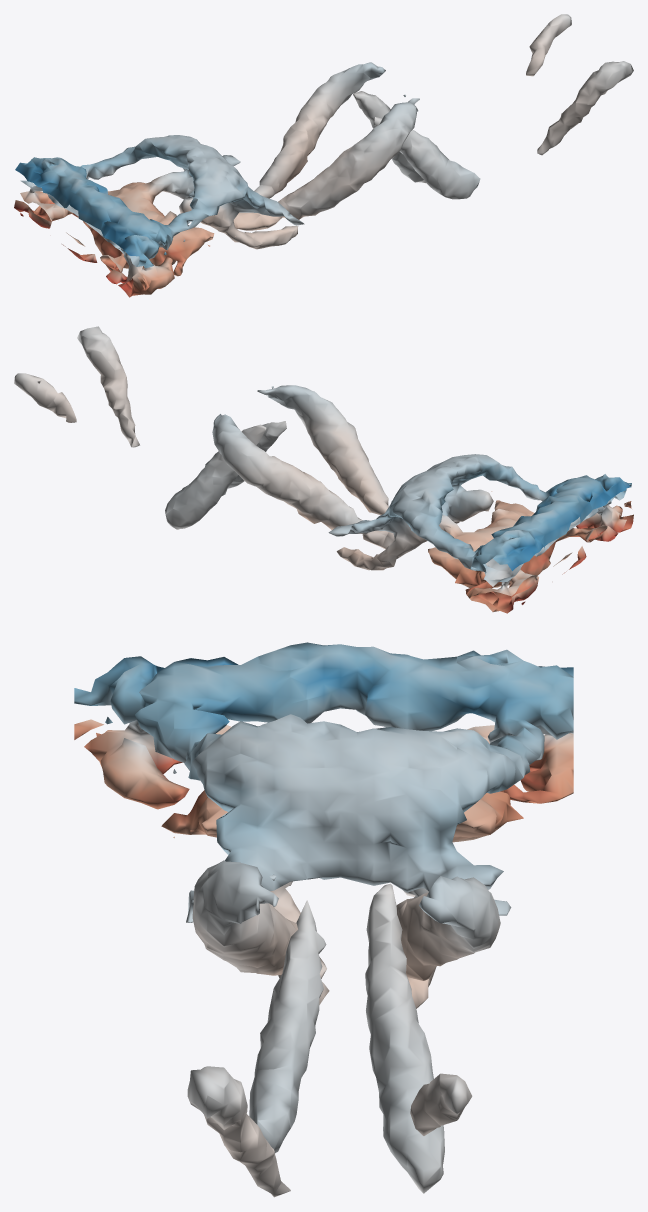
The picture shows the model from 3 angles, top to bottom: view 1: azimuth 30°, elevation 25°; view 2: azimuth 150°, elevation 25°; view 3: azimuth 270°, elevation 25°; orthographic projection. The views are drawn at different scales.
Size of the model in its own units: 6.13 by 1.44 by 2.5.
